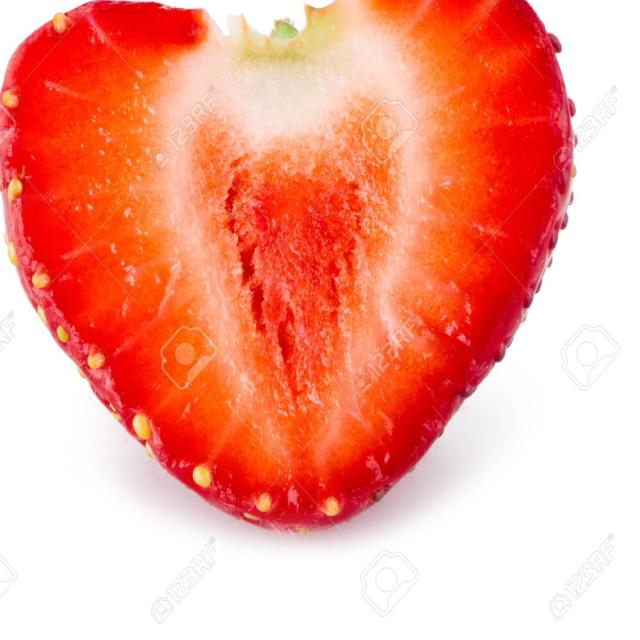strawberry: (0, 0, 580, 546)
